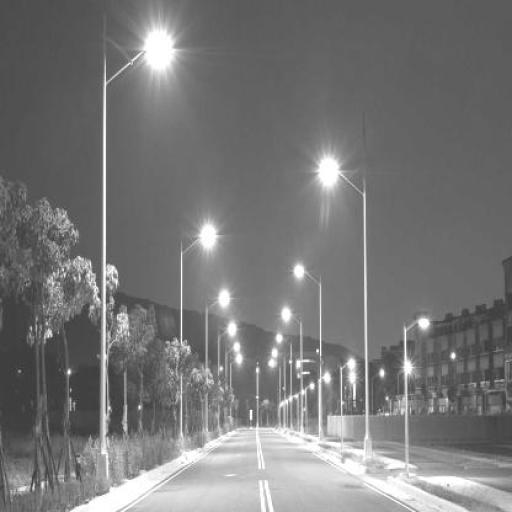street light: (96, 32, 172, 482), (318, 156, 372, 466), (177, 227, 214, 446), (295, 264, 325, 444), (402, 315, 432, 478), (203, 290, 230, 442), (283, 308, 304, 433), (216, 324, 234, 431), (277, 335, 294, 428), (272, 347, 287, 425), (226, 344, 240, 426), (230, 355, 243, 427), (270, 359, 282, 427), (256, 368, 260, 430)
